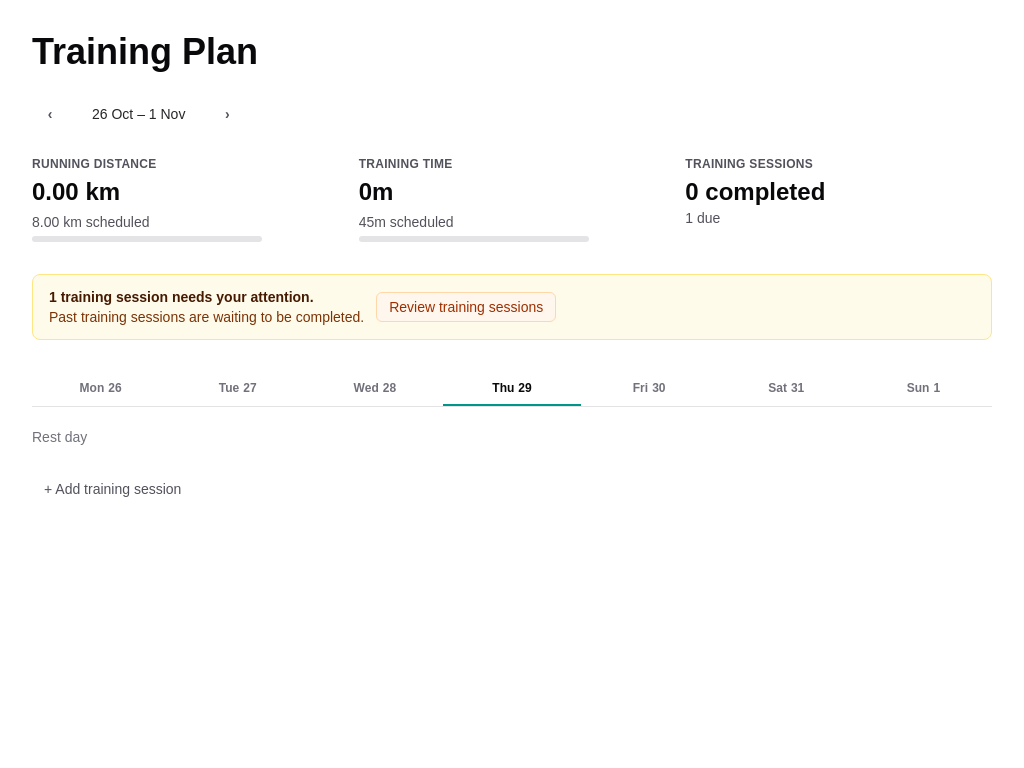
Test: TrainingPlanner opens the training session review modal from the attention panel
This screenshot has width=1024, height=768.
Click the button "Review training sessions": (466, 307) [376,292,556,322]
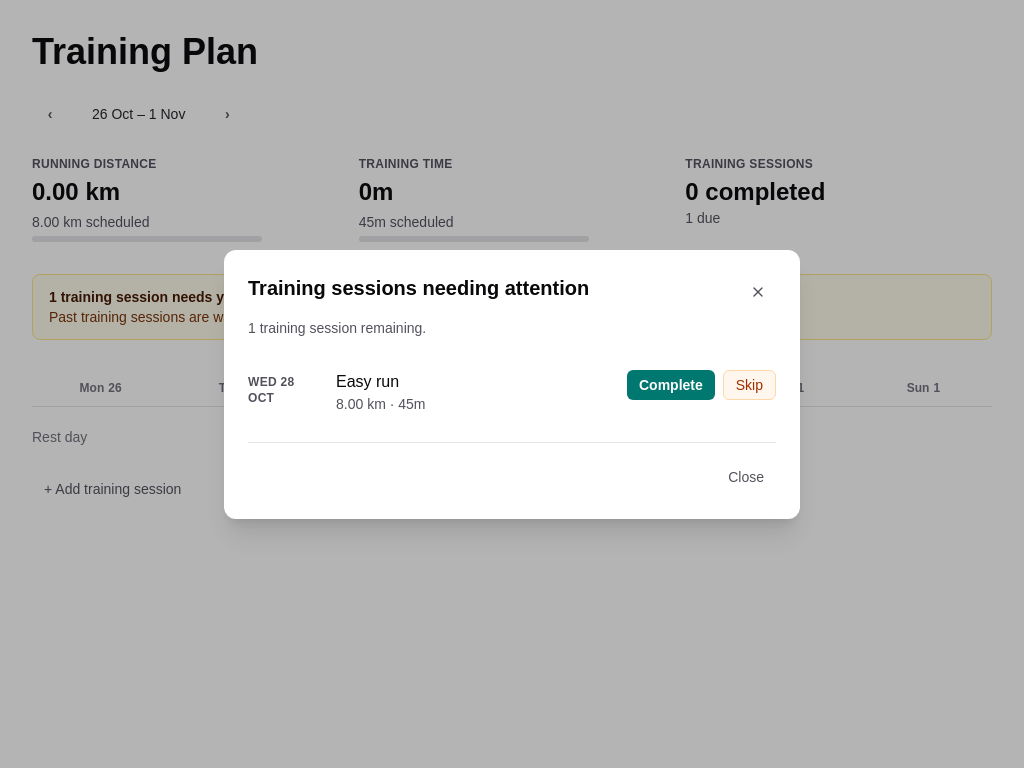
Check: the dialog "Training sessions needing attention" is shown, box [224,250,800,518]
